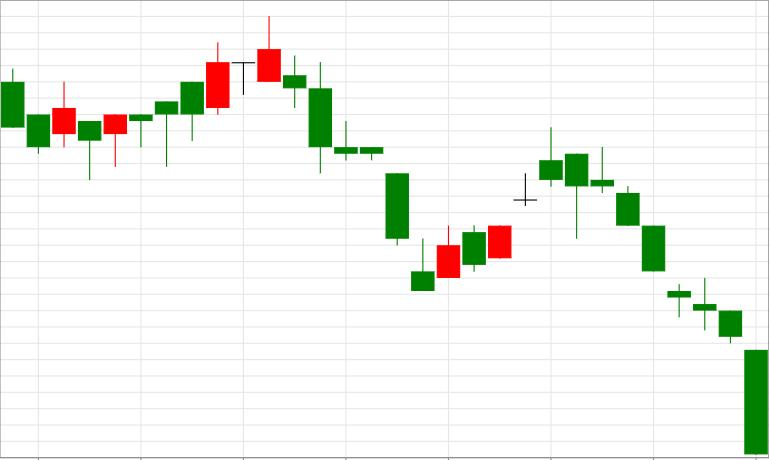hanging_man_fall: (437, 126, 588, 278)
